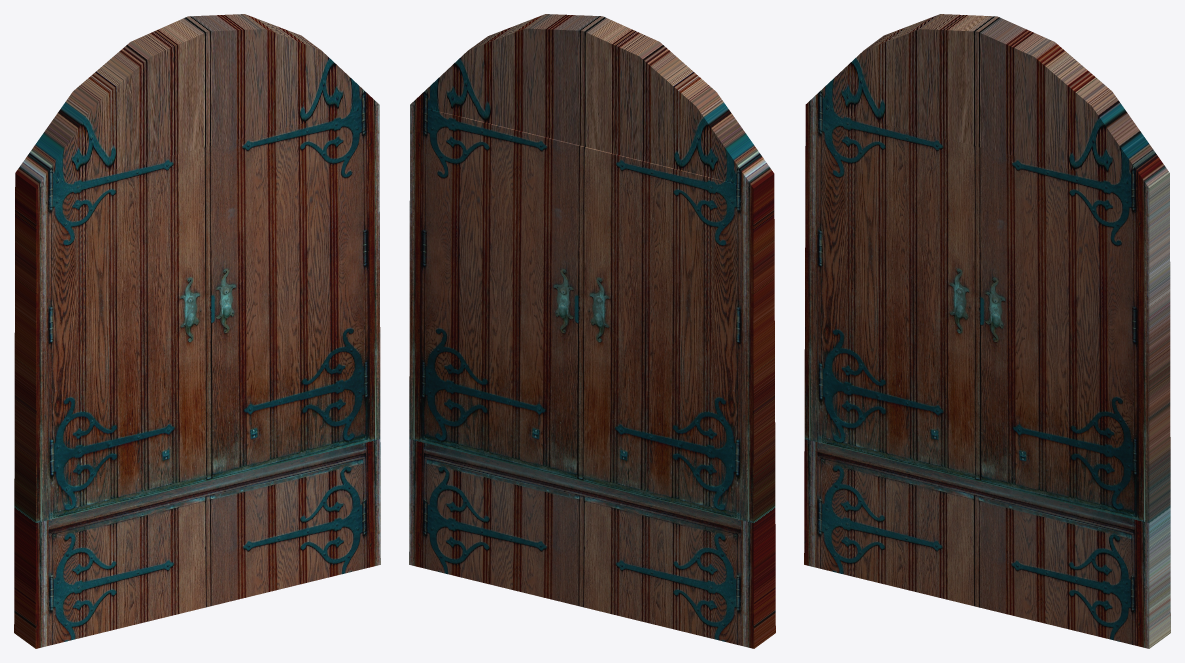
Rendered from door.fbx.
3 renders of one model, left to right at view 1: azimuth 30°, elevation 25°; view 2: azimuth 150°, elevation 25°; view 3: azimuth 330°, elevation 25°, orthographic.
Parts seen in each view (by area): view 1: polySurface238; view 2: polySurface238; view 3: polySurface238.
Boxes of the visible parts, left/top/right/bottom form: polySurface238: left=14, top=14, right=380, bottom=648; polySurface238: left=409, top=14, right=775, bottom=648; polySurface238: left=804, top=14, right=1170, bottom=648.
Size of the model in its own units: 28.52 by 45.45 by 3.1.
